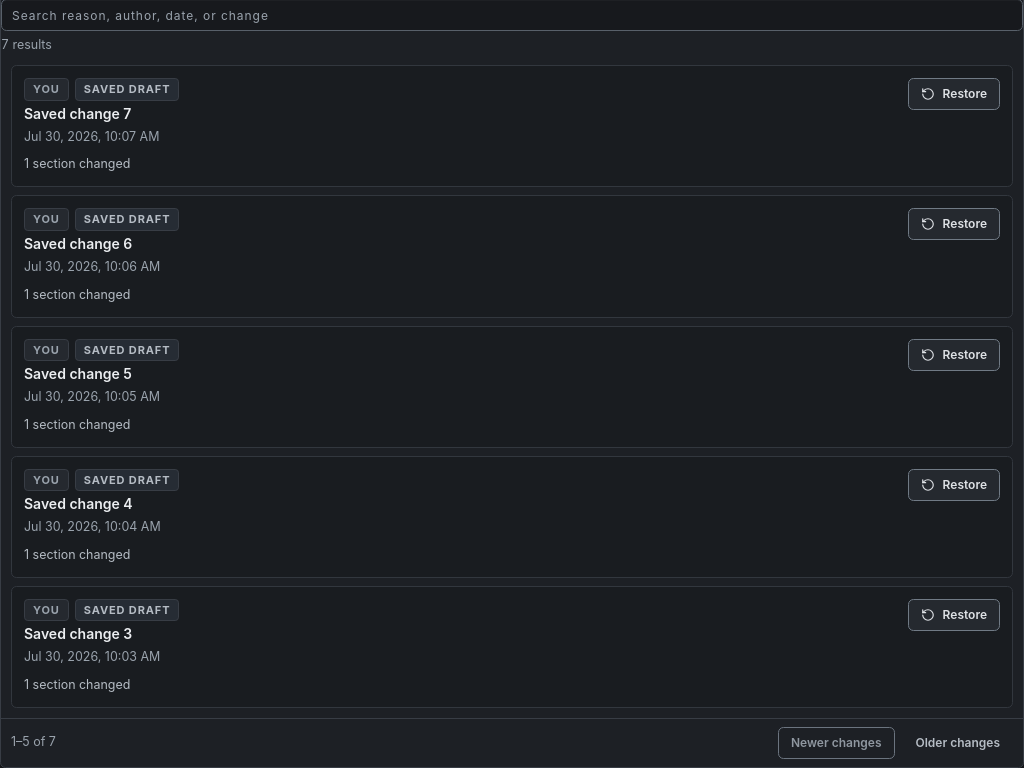
Test: ResumeVersionHistoryPanel › shows the newest five revisions and pages through older history without growing the DOM
The width and height of the screenshot is (1024, 768).
(page scrolled)
Check: the text "Saved change 7" is shown, box [24,105,131,122]
Check: the text "Saved change 3" is shown, box [24,625,132,642]
Click the button "Older changes".
click(958, 743)  # box [902,727,1013,759]
(page scrolled)
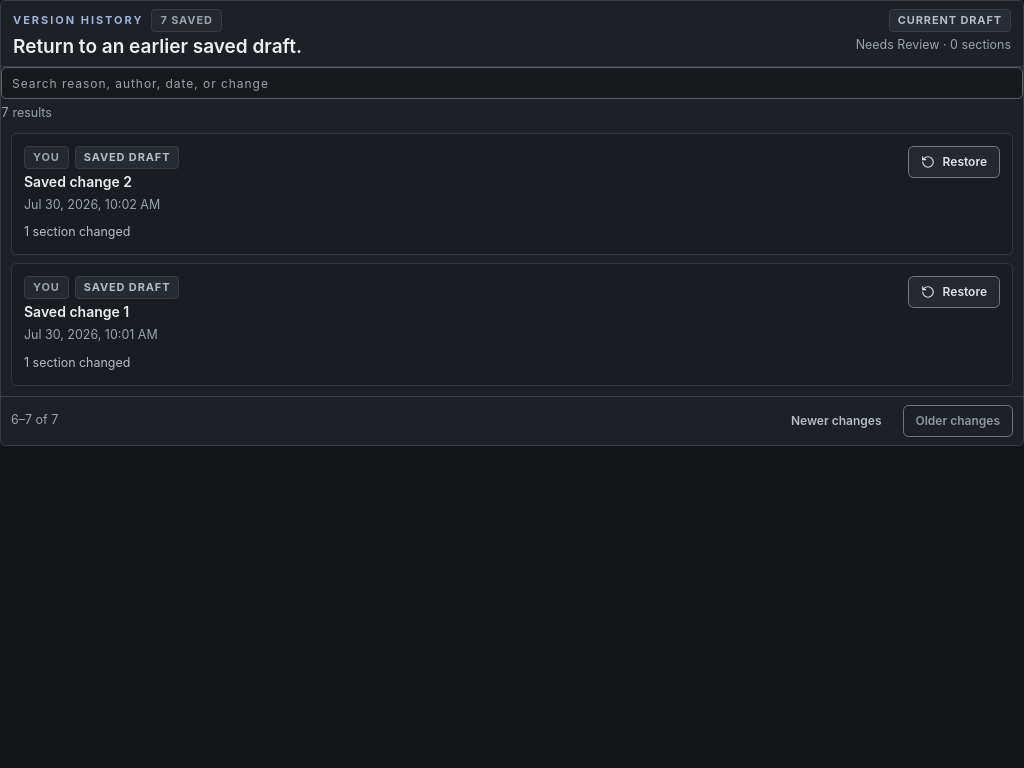
Check: the text "Saved change 2" is shown, box [24,173,132,190]
Check: the text "Saved change 1" is shown, box [24,303,129,320]
Check: the text "6–7 of 7" is shown, box [11,411,58,430]
Click the button "Newer changes".
click(836, 420)  # box [778,404,894,436]
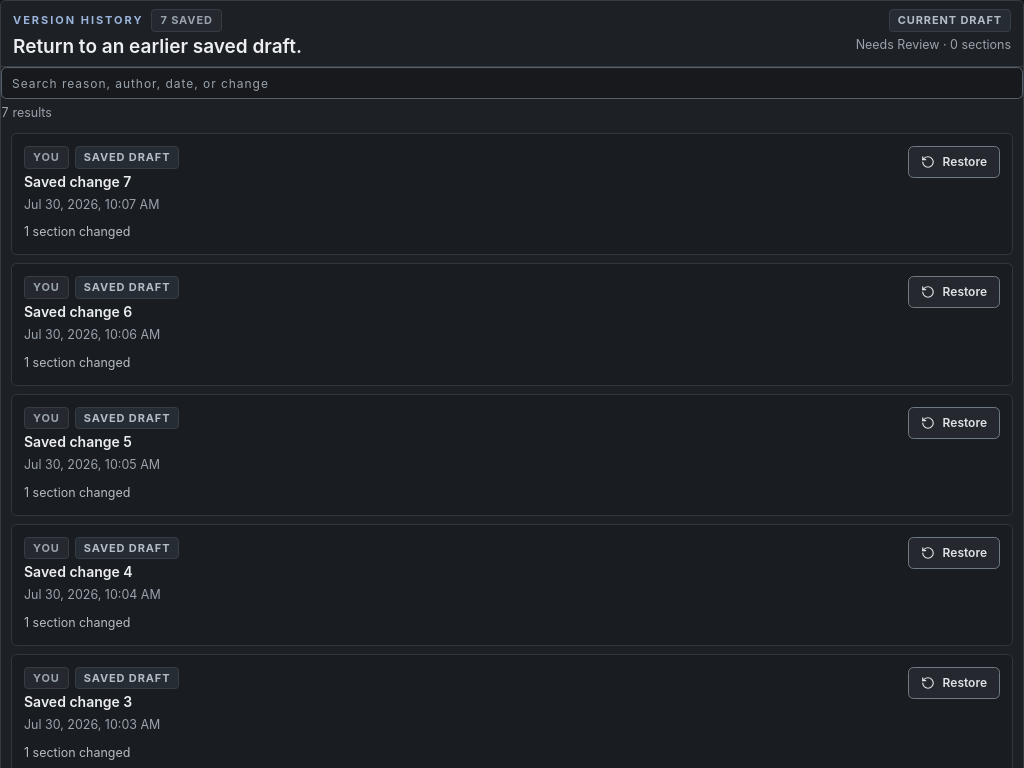
Check: the text "Saved change 7" is shown, box [24,173,131,190]
